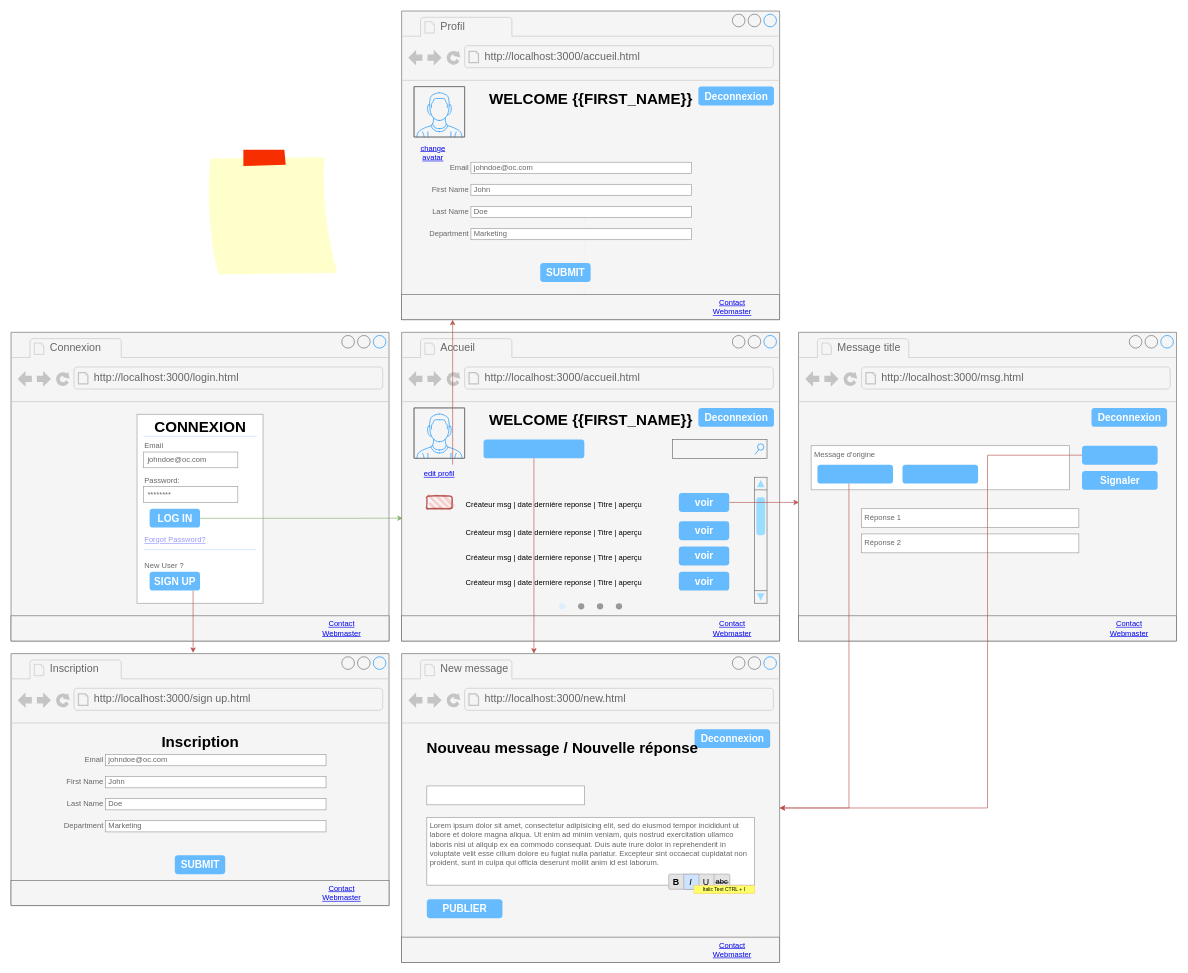
Image size: 1188x973. Some labels were removed from this diagram. Here are the shapes that lost their labels. From the top down, the centre of each, then its label:
(272,212): Visuels pouvant évoluer selon droits d'accès
(533,448): Nouveau message
(719,448): Search
(1119,454): Répondre
(855,473): Modifier
(940,473): Supprimer
(439,502): NEW
(505,795): Title
